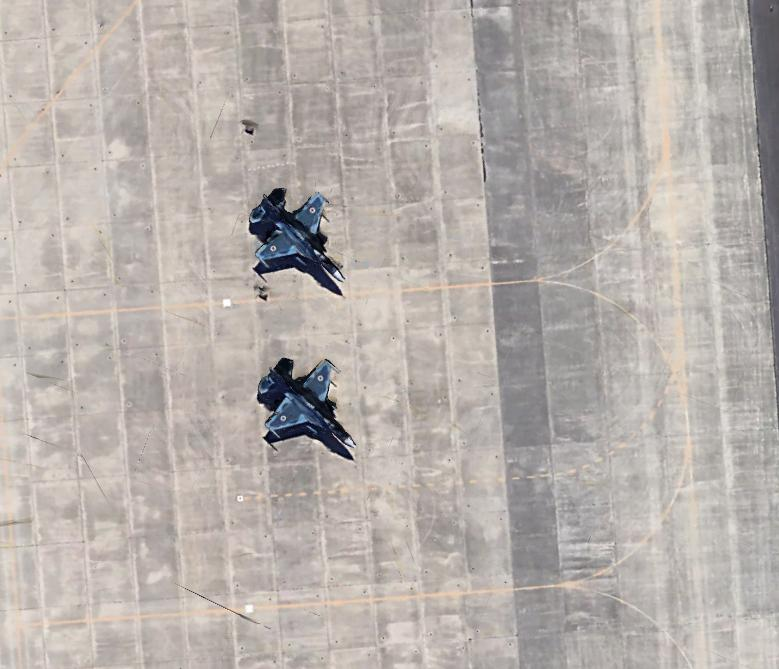A5: (240, 183, 357, 286), (248, 349, 365, 452)
